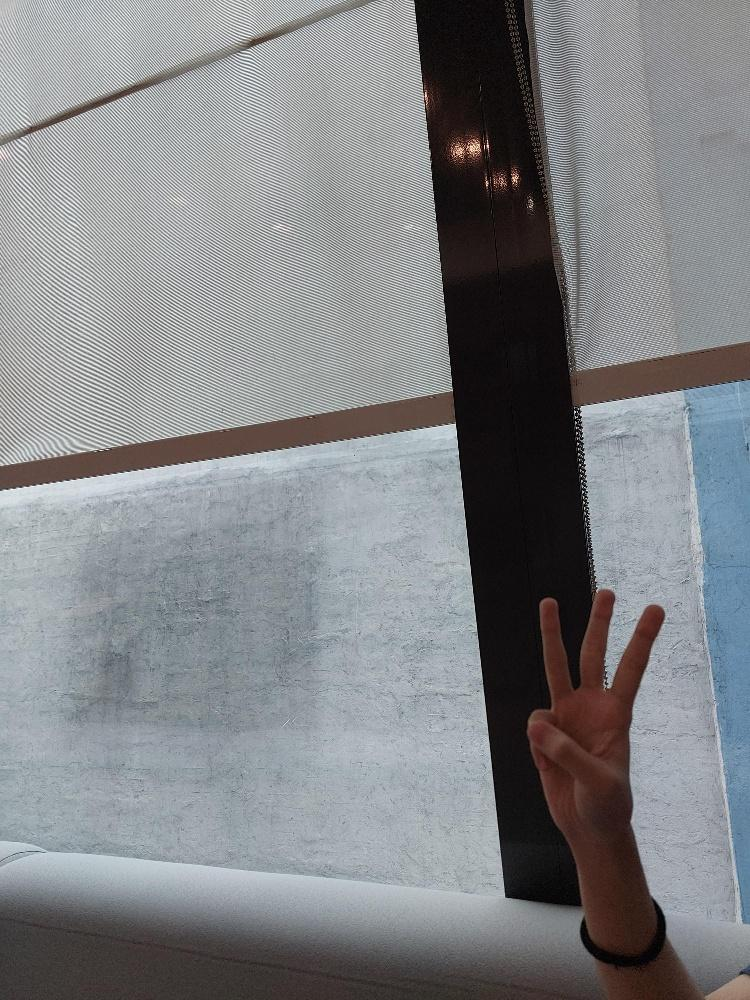w: (525, 586, 665, 827)
